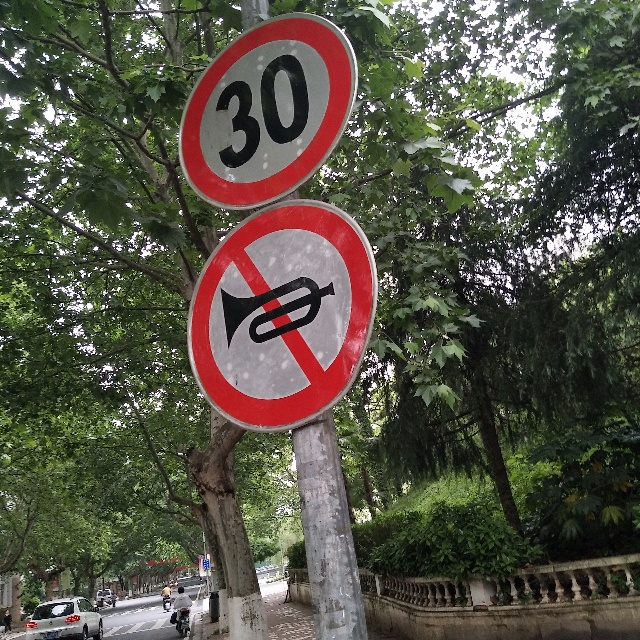nohonk: (181, 196, 390, 437)
